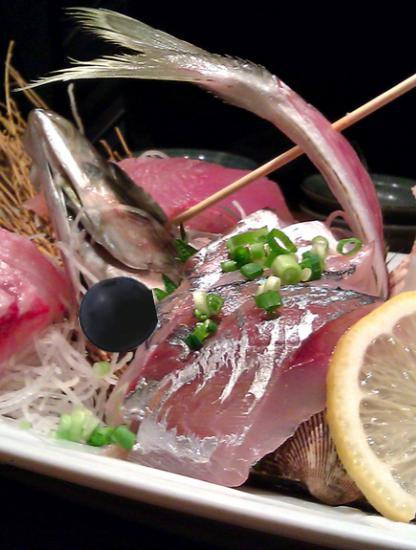Grape: (78, 276, 156, 354)
